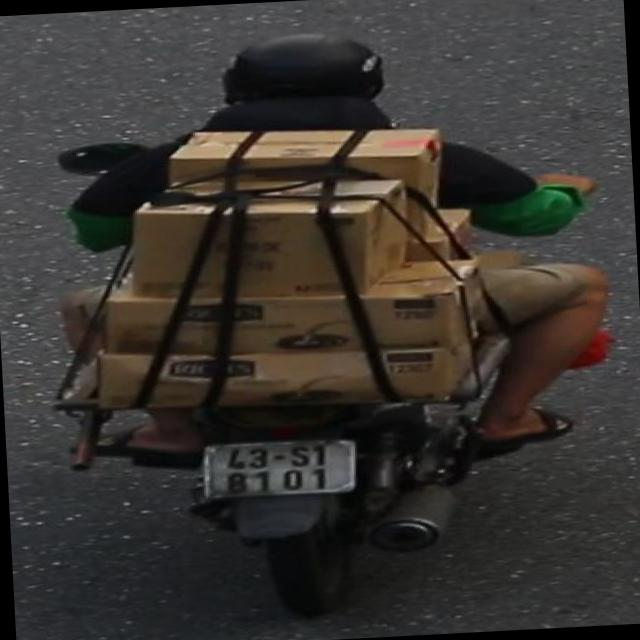LP: (192, 432, 369, 508)
helmet: (204, 26, 400, 126)
